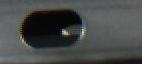holes: (18, 8, 86, 50)
